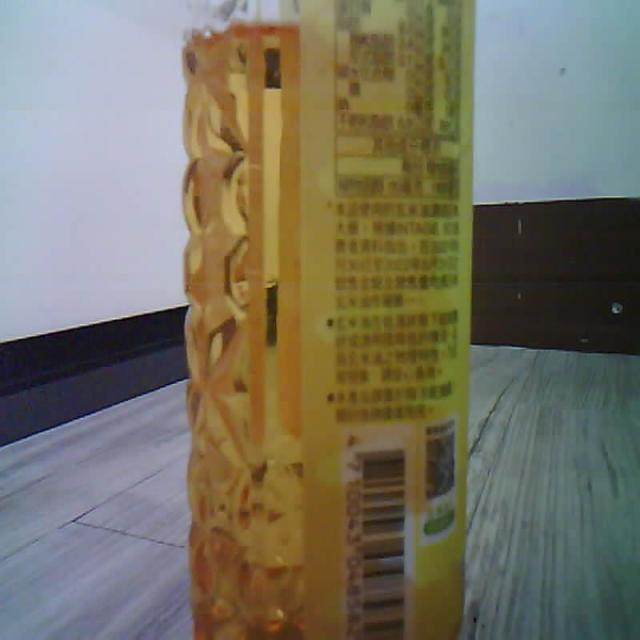bottle: (182, 0, 474, 639)
